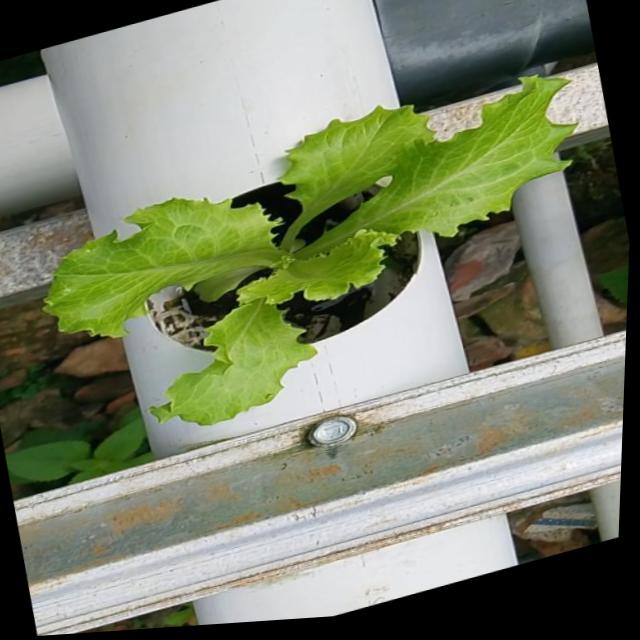Baby: (42, 78, 573, 426)
